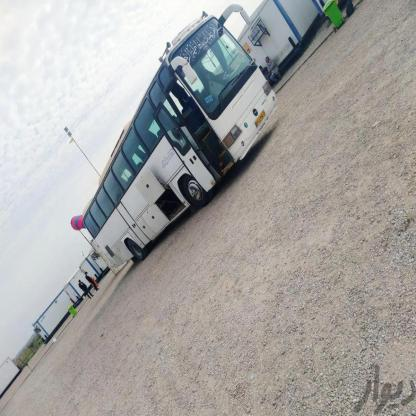Bus: (78, 13, 276, 269)
